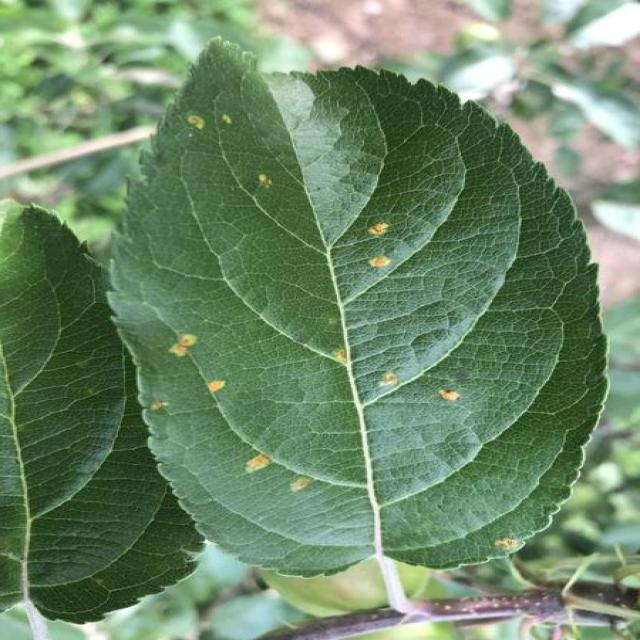Gymnosporangium_Rusts: (101, 34, 610, 597)
